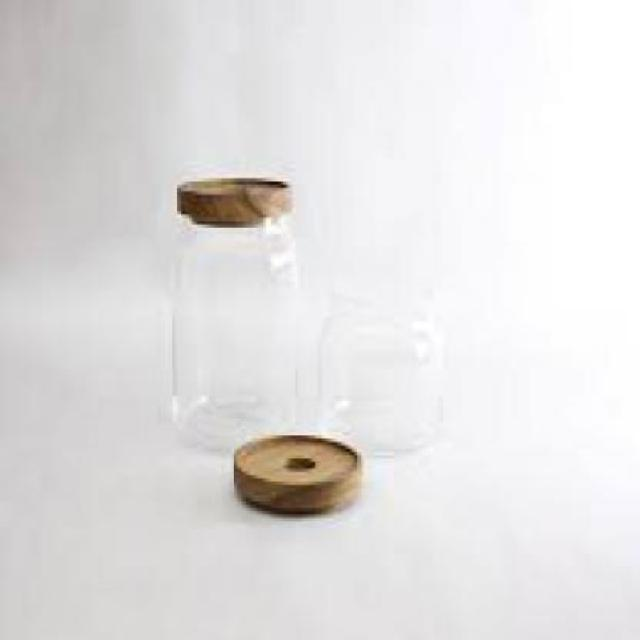GLASS: (168, 221, 300, 445), (318, 277, 438, 449)
